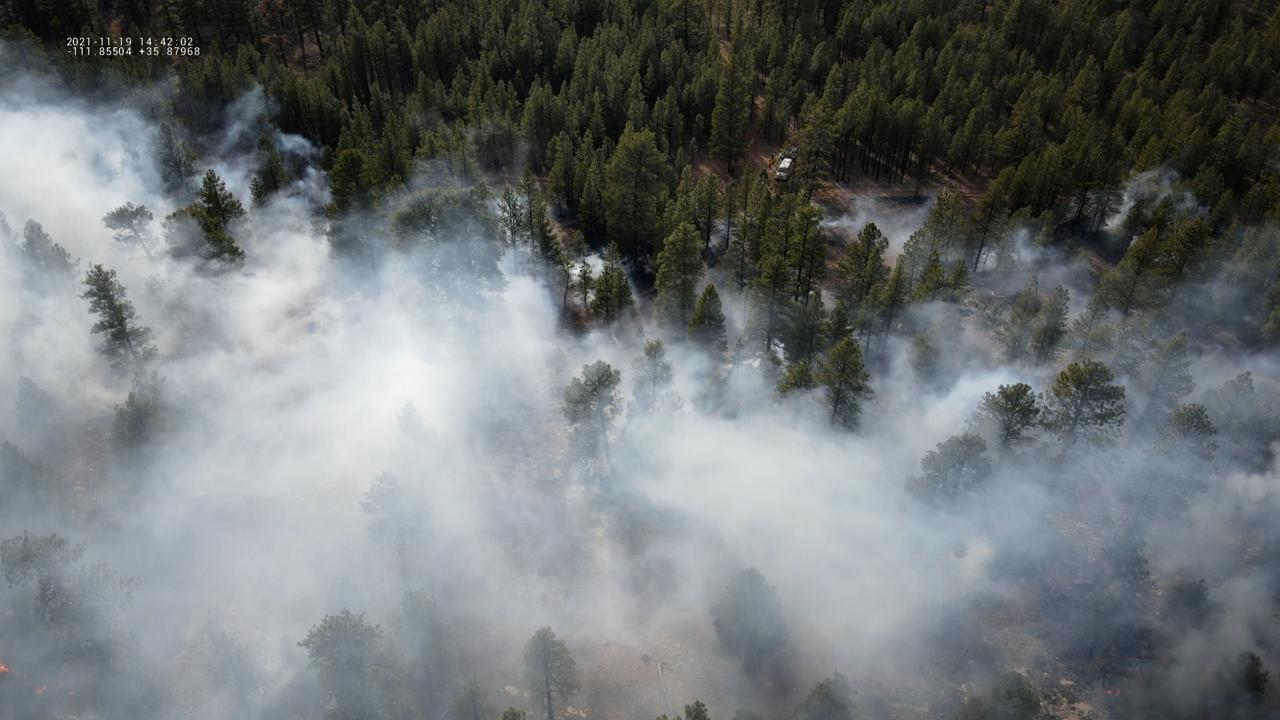fire: (1105, 688, 1121, 697)
smoke: (0, 58, 1280, 720)
